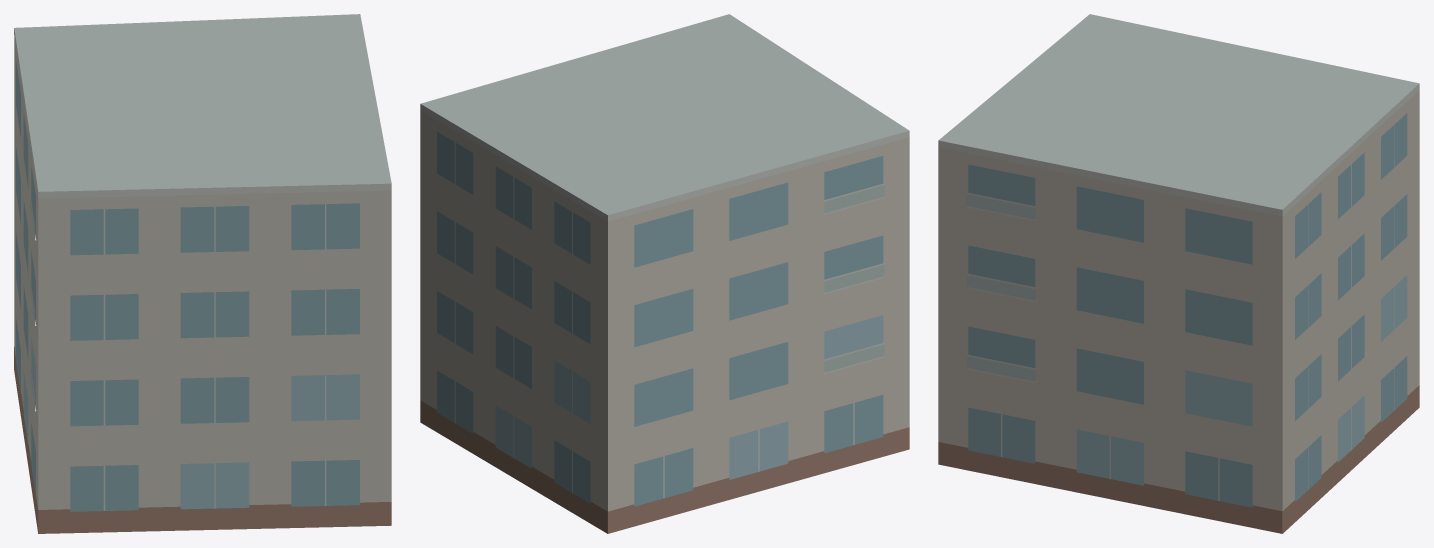
Rendered from survey-upis-32599475.glb.
3 views of the same model, side by side, from view 1: azimuth 30°, elevation 25°; view 2: azimuth 150°, elevation 25°; view 3: azimuth 270°, elevation 25° (orthographic). The views are drawn at different scales.
Visible parts, largest first — view 1: survey-upis-32599475.tmp; view 2: survey-upis-32599475.tmp; view 3: survey-upis-32599475.tmp.
Boxes of the visible parts, box(x1,y1,x2,y2) form: survey-upis-32599475.tmp: box(14, 14, 391, 533); survey-upis-32599475.tmp: box(420, 14, 909, 533); survey-upis-32599475.tmp: box(938, 14, 1419, 533).
Bounding box in the file's own units: 15.82 × 12.2 × 16.43.
